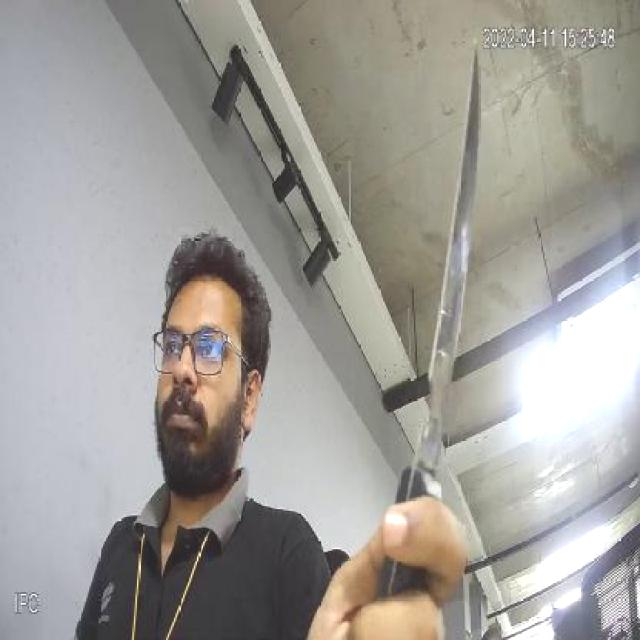knife: (403, 40, 486, 494)
